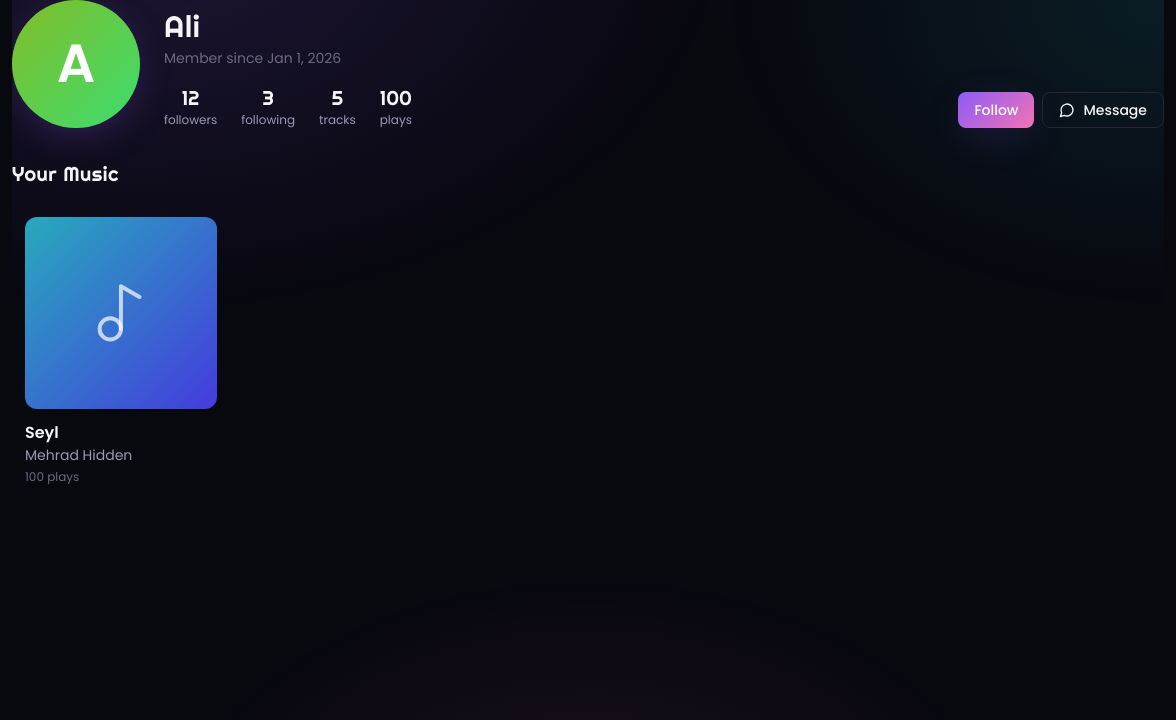
Test: ProfileView — following › explains a failed follow instead of silently resetting
This screenshot has width=1176, height=720.
Click the button "Follow" at (996, 110), box [958,92,1034,128]
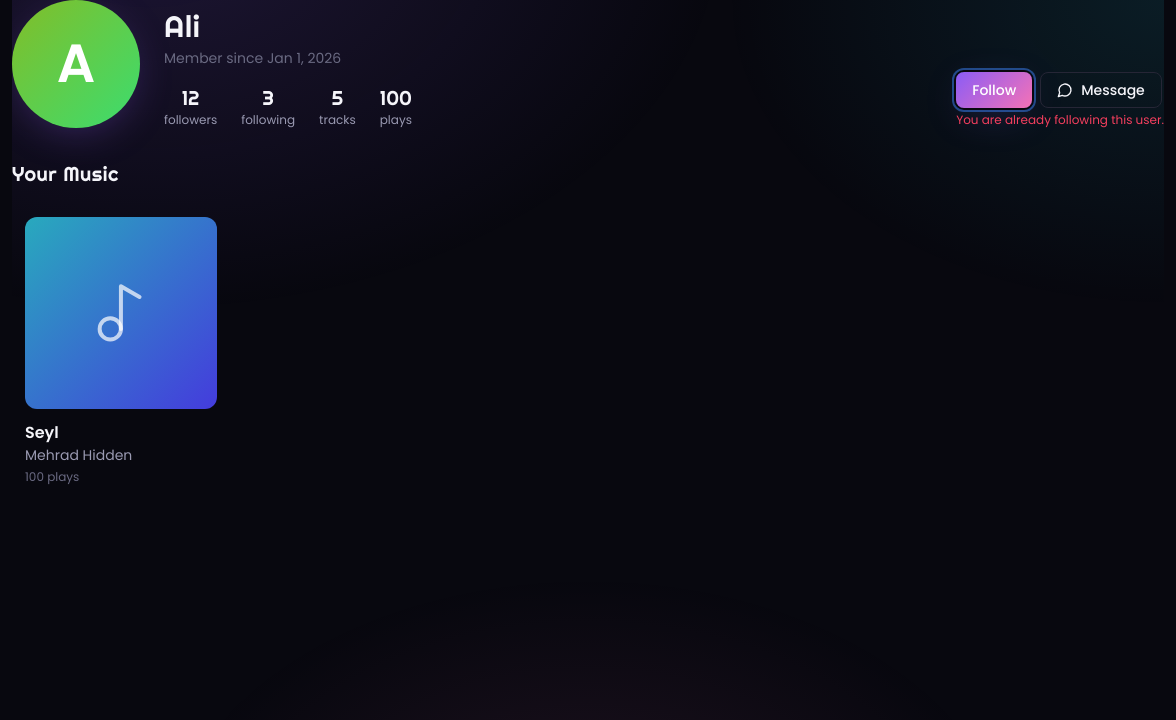
Check: the button "Follow" is enabled, box [956,72,1032,108]
Check: the message reads "You are already following this user.", box [956,111,1164,128]
